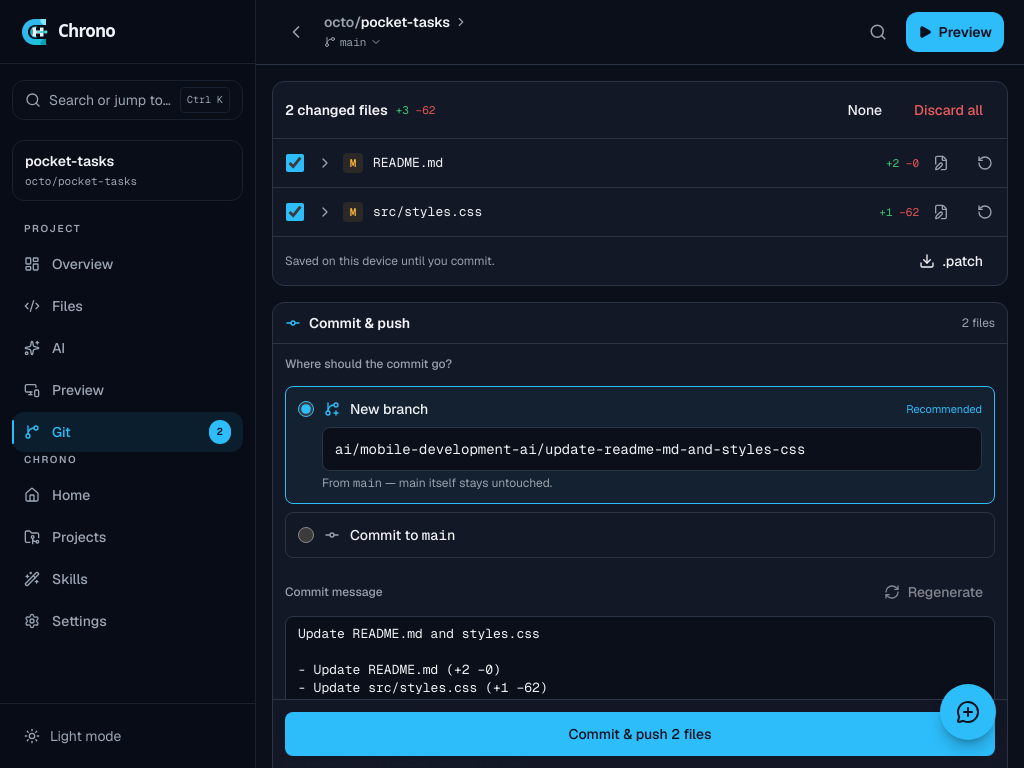
Scenario: Git shipping › asks for confirmation before committing directly to the default branch
What coordinates should you click on to do the following:
click the radio button with test id "radio-current-branch"
I would click on:
 (306, 535)
Its box is [298,527,314,543].
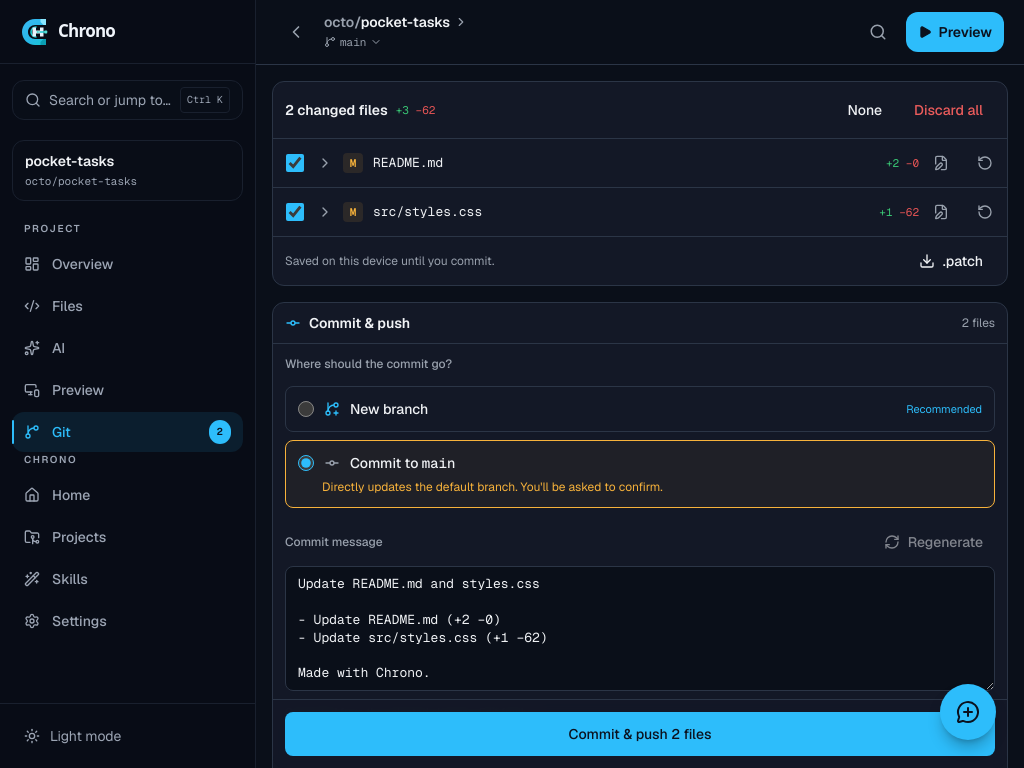
What coordinates should you click on to do the following:
click the button with test id "button-commit"
I would click on:
 (640, 734)
Its box is [285,712,995,756].
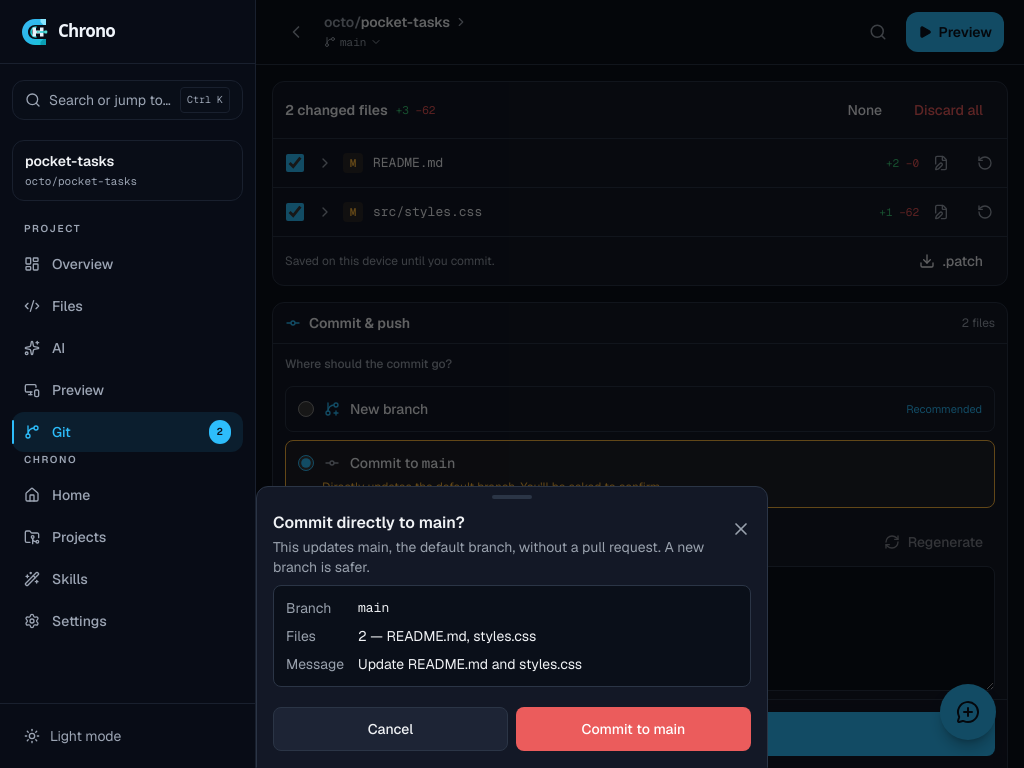
Check: the heading "Commit directly to main?" is shown, box [273,512,465,533]
